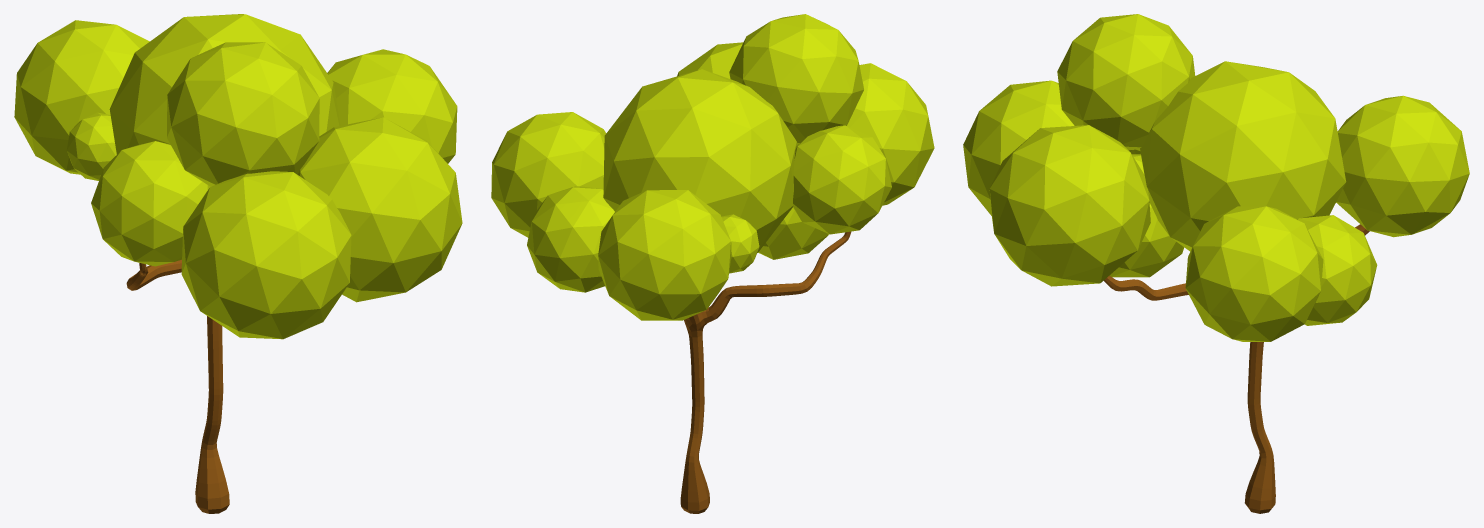
File: TreewShadow_2b.fbx
3 views of the same model, side by side, from view 1: azimuth 30°, elevation 25°; view 2: azimuth 150°, elevation 25°; view 3: azimuth 270°, elevation 25° (orthographic). The views are drawn at different scales.
Visible parts, largest first — view 1: Plane.001; view 2: Plane.001; view 3: Plane.001.
Boxes of the visible parts, x1,y1,x2,y2 form: Plane.001: (14,14,462,513); Plane.001: (491,14,934,513); Plane.001: (963,14,1469,513).
Size of the model in its own units: 413 by 523 by 510.
